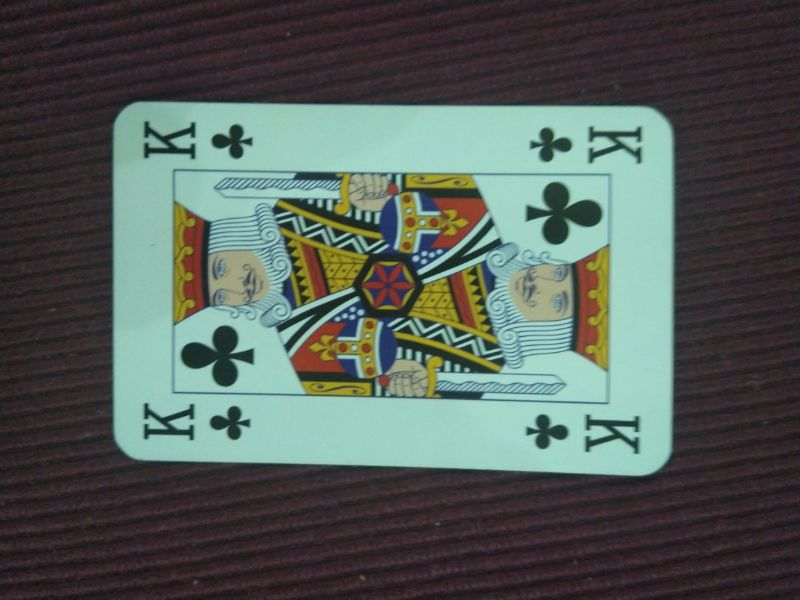Kc: (517, 406, 651, 460), (522, 119, 647, 168), (135, 396, 257, 446), (138, 116, 256, 164)
